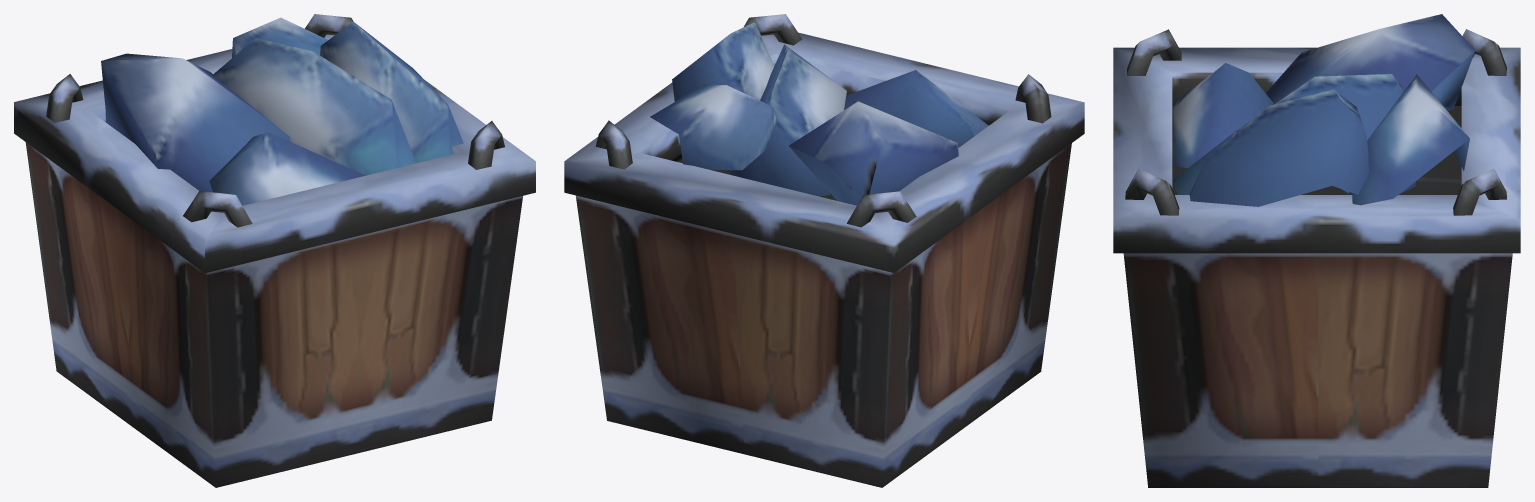
Rendered from Map_10_wooden10.FBX.
The picture shows the model from 3 angles, left to right: view 1: azimuth 30°, elevation 25°; view 2: azimuth 150°, elevation 25°; view 3: azimuth 270°, elevation 25°; orthographic projection. The views are drawn at different scales.
Parts seen in each view (by area): view 1: Map_10_wooden10; view 2: Map_10_wooden10; view 3: Map_10_wooden10.
Boxes of the visible parts, x1=… form: Map_10_wooden10: x1=14, y1=14, x2=535, y2=487; Map_10_wooden10: x1=564, y1=14, x2=1084, y2=487; Map_10_wooden10: x1=1113, y1=14, x2=1520, y2=487.
Size of the model in its own units: 4 by 4.03 by 4.
